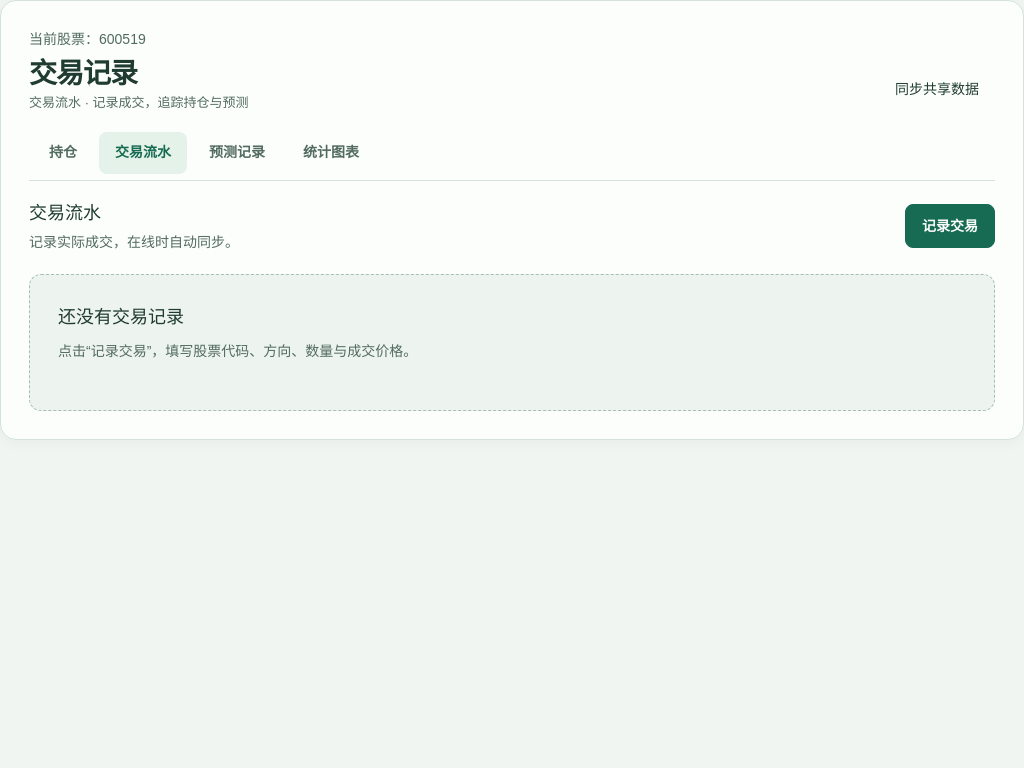
Scenario: TradingPage interactions › records a trade from the ledger action
expect the dialog "新增交易" is not shown: met
Click the button "记录交易" at (950, 226), box [905, 204, 995, 248]
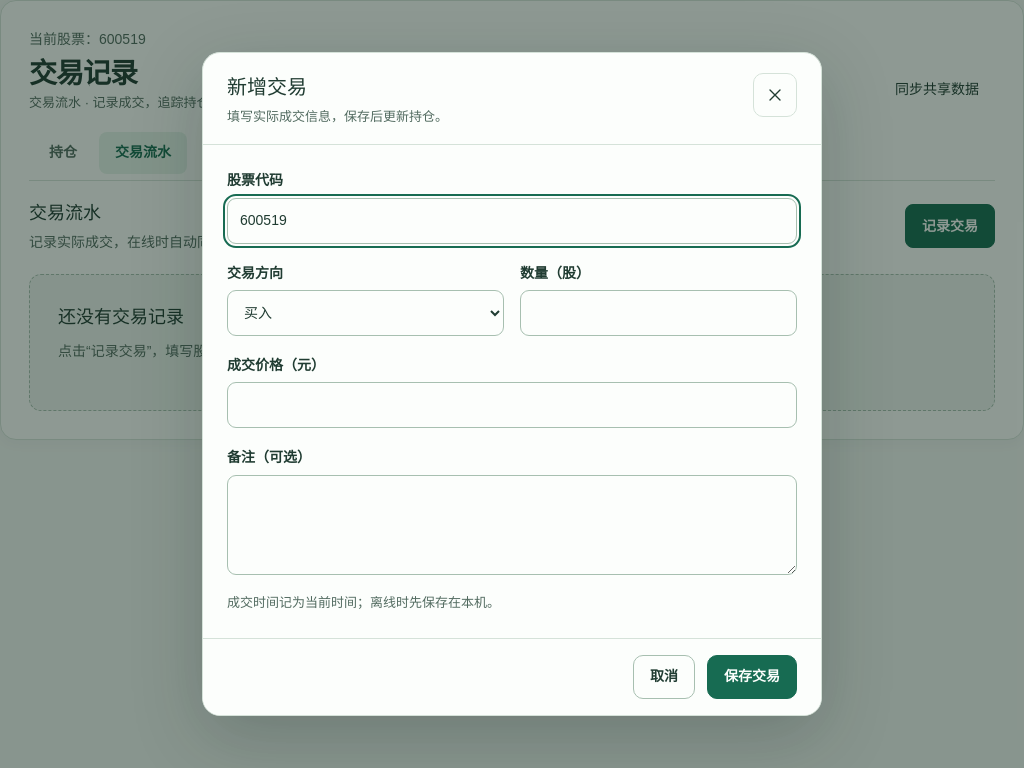
Select "买入" in the dropdown labelled "交易方向" at (366, 313), box [227, 290, 504, 336]
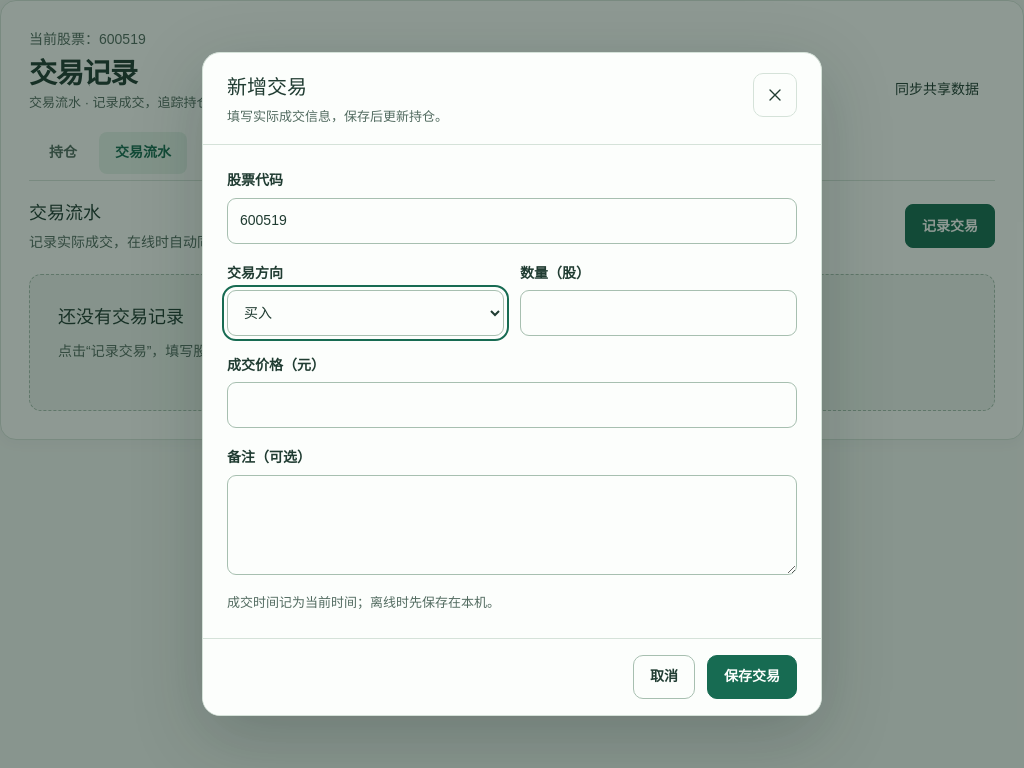
Type "100" into the number field named "交易数量" at (658, 313), box [520, 290, 797, 336]
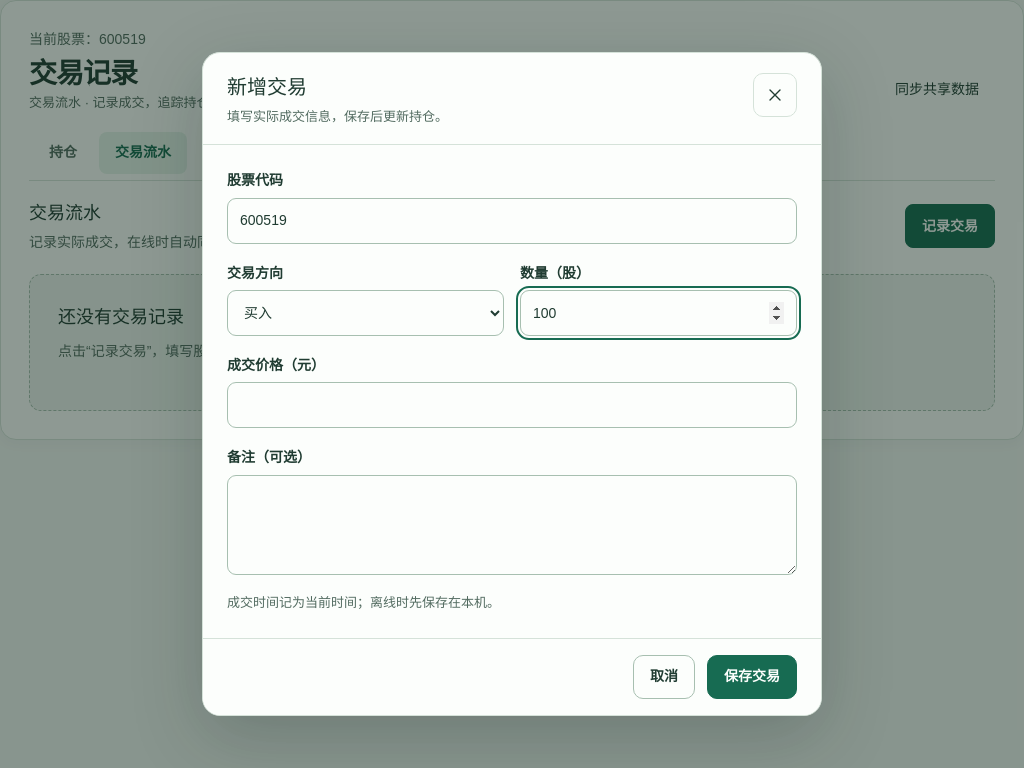
Type "1290" into the number field labelled "成交价格" at (512, 405), box [227, 382, 797, 428]
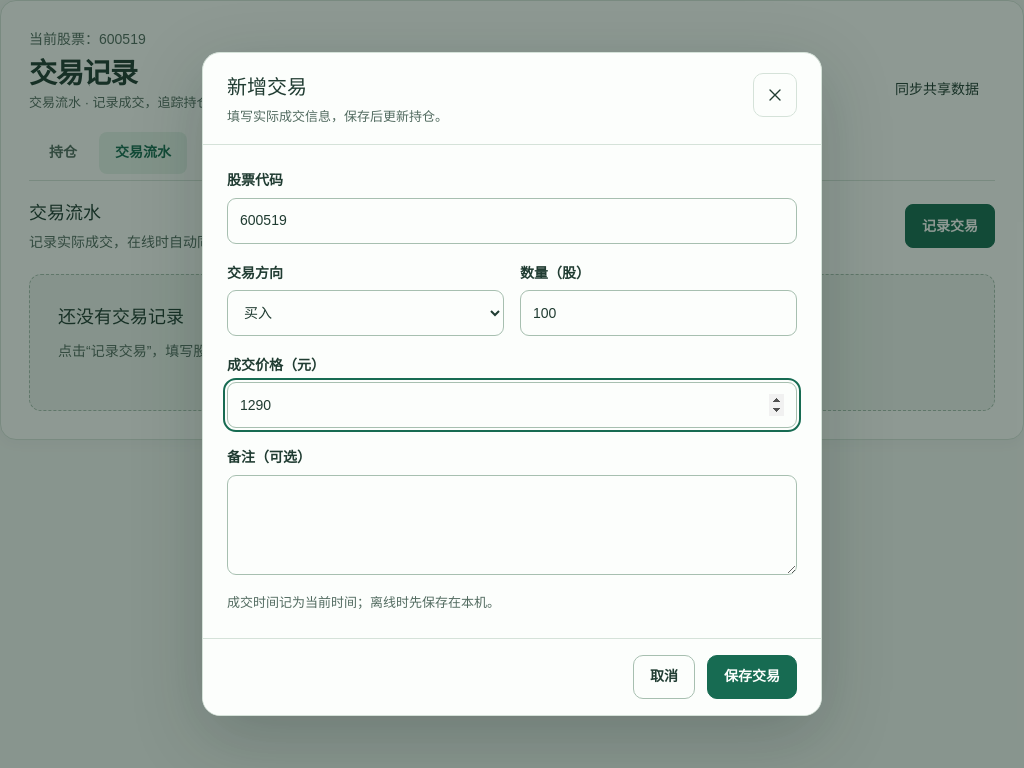
Click the button "保存交易" at (752, 677), box [707, 655, 797, 699]
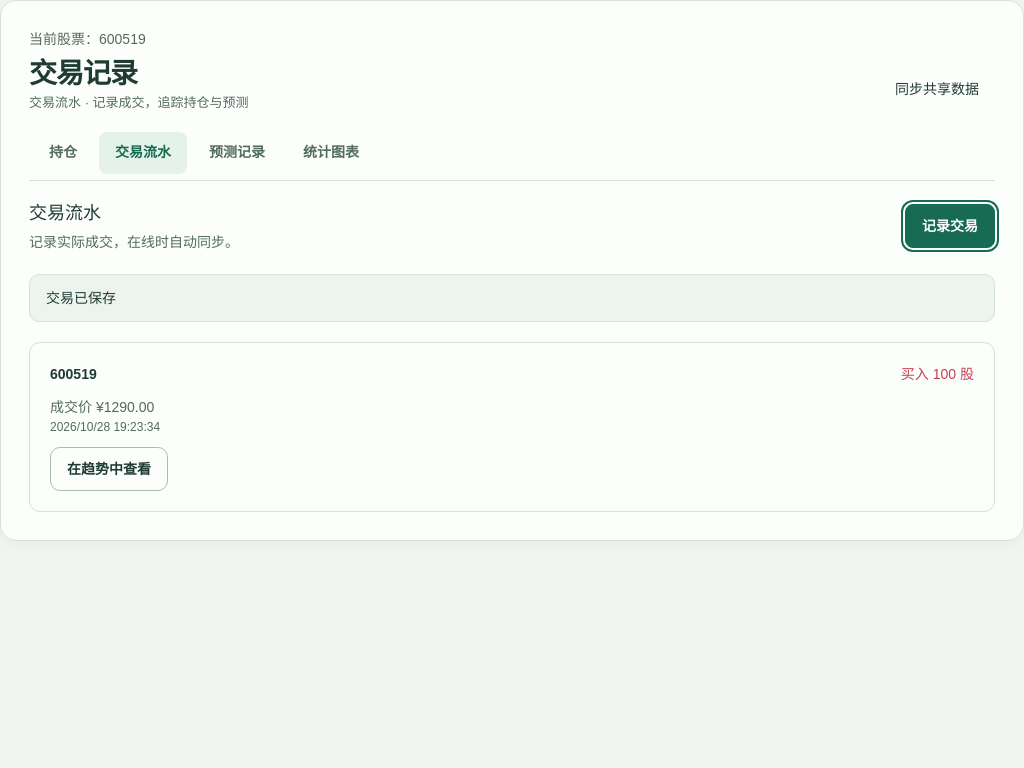
expect the text "交易已保存" is shown: met, box [29, 274, 995, 322]
expect the text "买入 100 股" is shown: met, box [901, 363, 974, 386]
